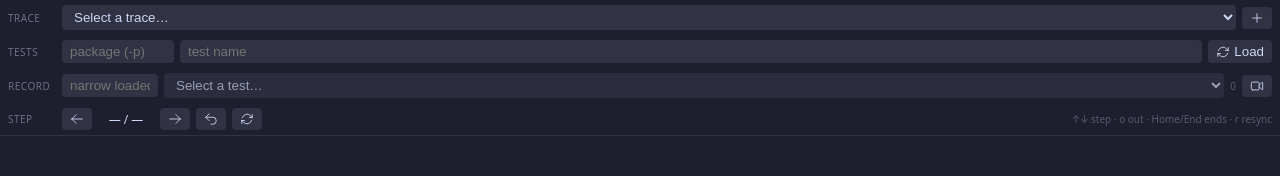
Test: DebugWalkthroughTile › recording from the UI › explains why no tests are listed instead of showing an empty dropdown
Click the button with aria-label "Load tests": [1240, 52] box [1208,40,1272,63]
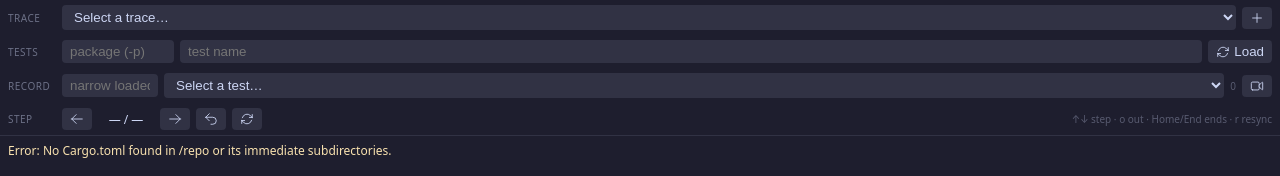
Check: the text with test id "walkthrough-tests-unavailable" shows "No Cargo.toml", box [8,142,392,159]
